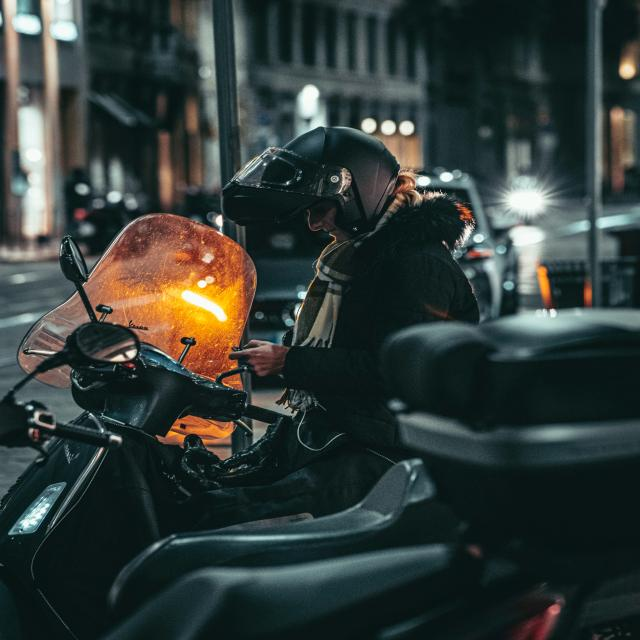adult: (229, 125, 476, 452)
